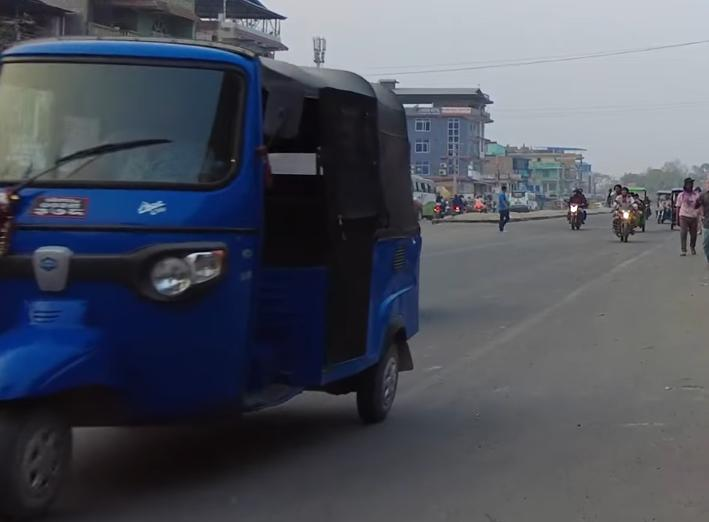auto_rickshaw: (0, 34, 435, 522)
bike: (614, 203, 637, 246), (563, 198, 588, 232)
